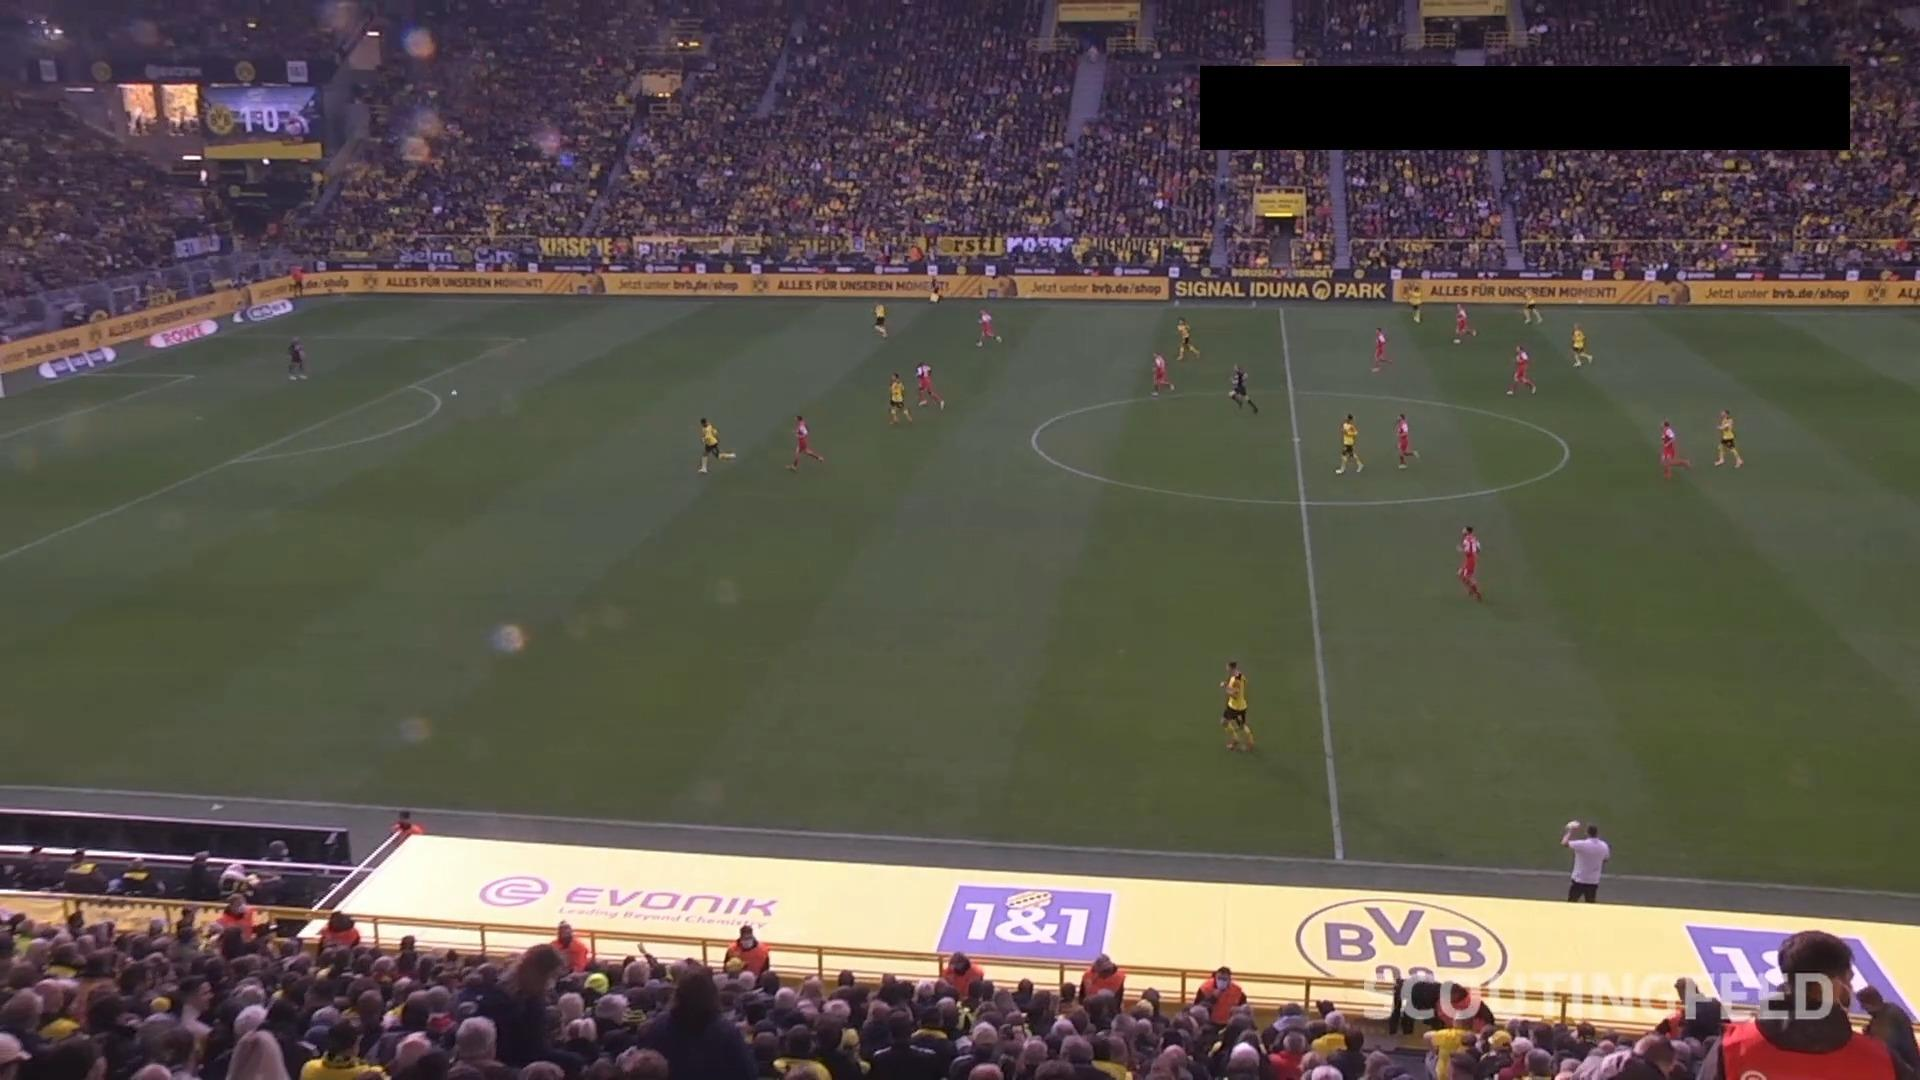ball: (450, 388, 459, 398)
